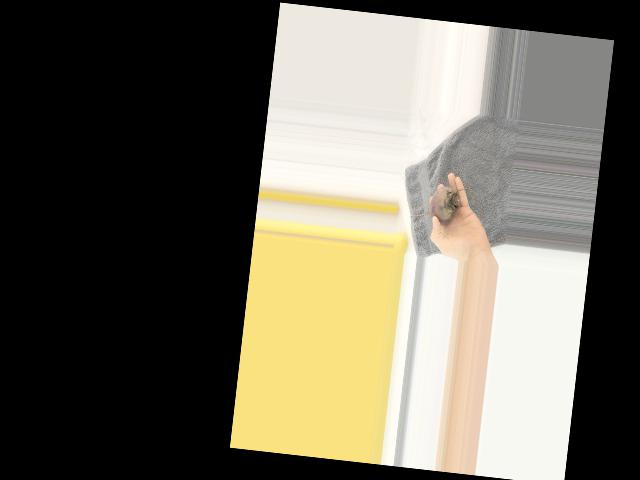beet: (409, 183, 462, 227)
